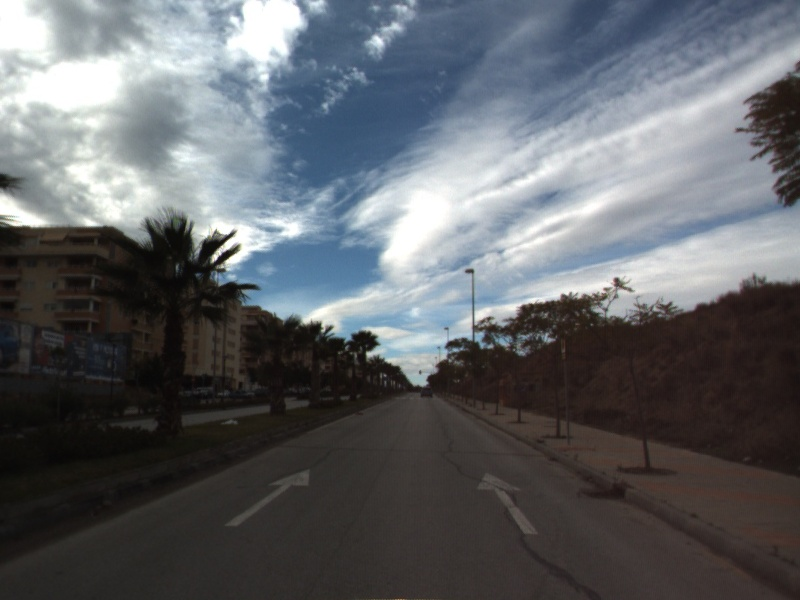STRAIGHT: (223, 467, 312, 528), (475, 470, 541, 536)
